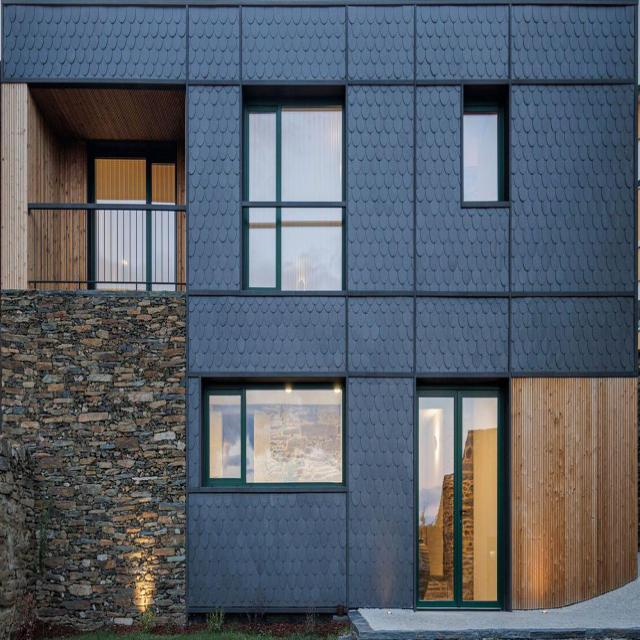door: (416, 389, 508, 614)
railing: (27, 201, 185, 291)
window: (244, 98, 347, 290), (205, 381, 345, 487), (87, 148, 177, 291), (462, 111, 504, 204)
